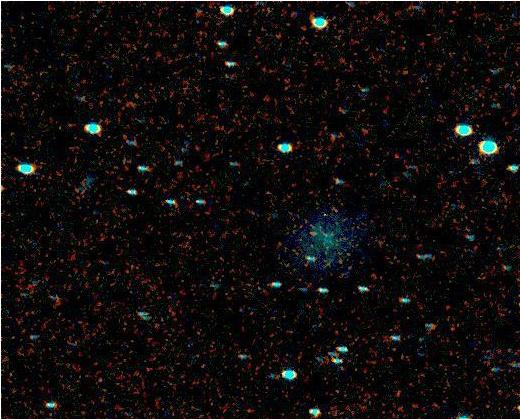star: (253, 182, 283, 212)
